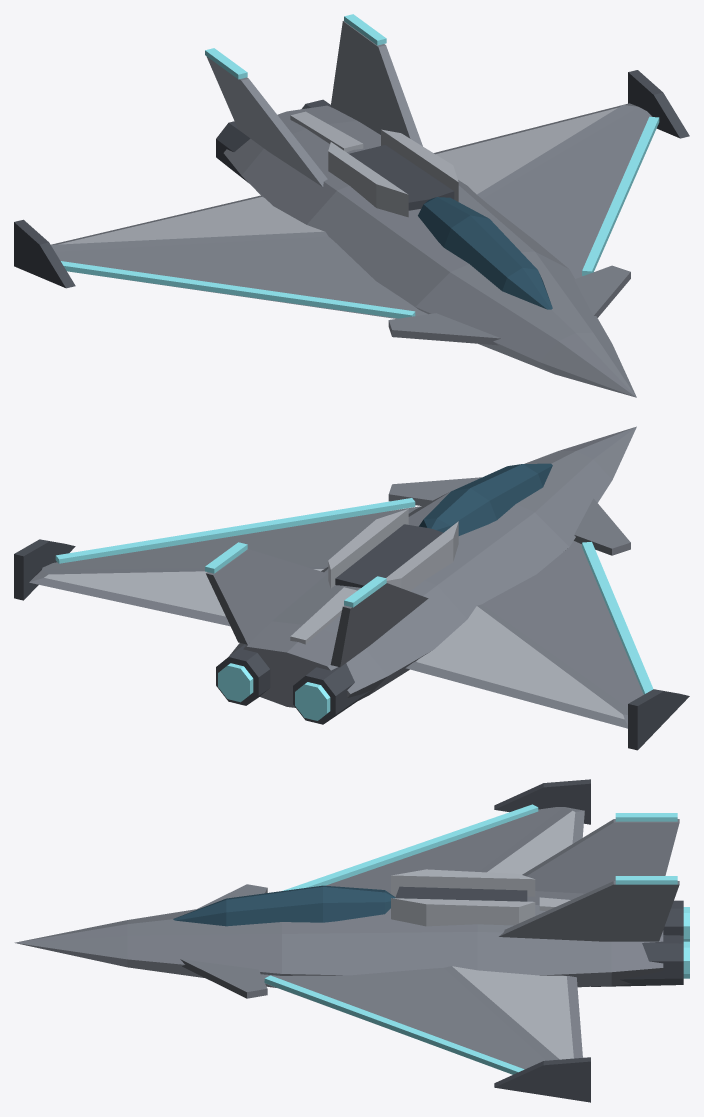
Rendered from vanguard.fbx.
3 renders of one model, top to bottom at view 1: azimuth 30°, elevation 25°; view 2: azimuth 150°, elevation 25°; view 3: azimuth 270°, elevation 25°, orthographic. The views are drawn at different scales.
Parts seen in each view (by area): view 1: vanguard; view 2: vanguard; view 3: vanguard.
Boxes of the visible parts, box(x1,y1,x2,y2) form: vanguard: box(14, 14, 689, 397); vanguard: box(14, 426, 689, 750); vanguard: box(14, 779, 689, 1102).
Bounding box in the file's own units: 3.24 × 0.6748 × 3.28.
